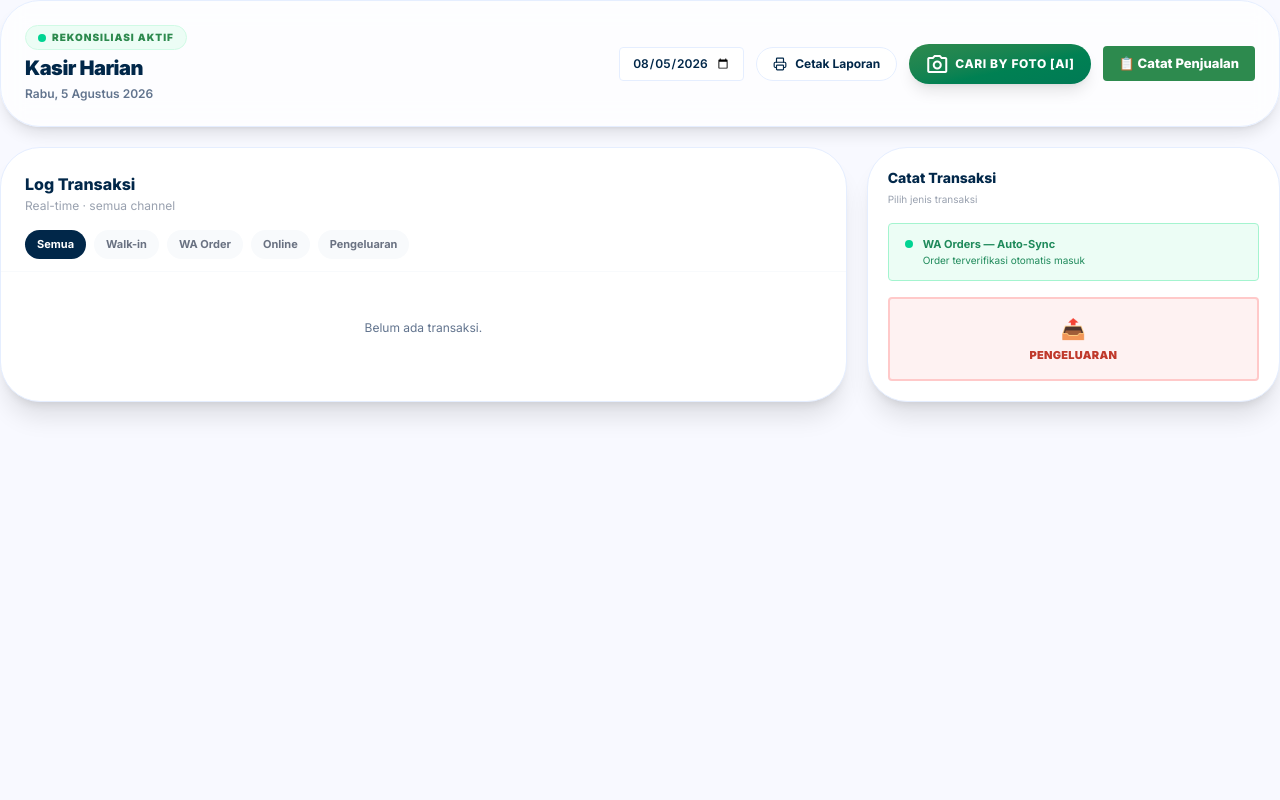
Test: KasirScreen ExpenseModal dropdown (post-config) › dropdown disabled while loading
Click the button "📤 Pengeluaran".
click(1073, 339)  # box left=888, top=296, right=1259, bottom=381
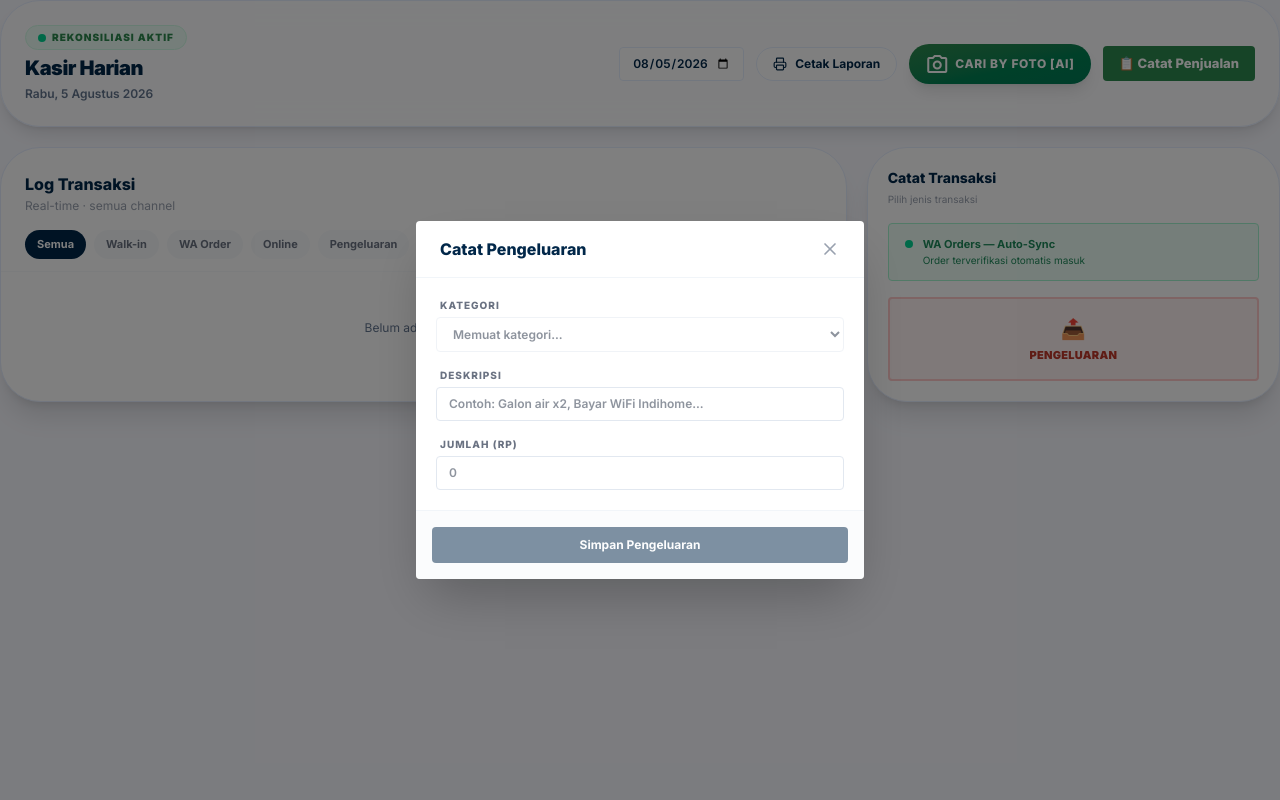
Now the dropdown named "Kategori" is disabled, box left=436, top=317, right=844, bottom=352
